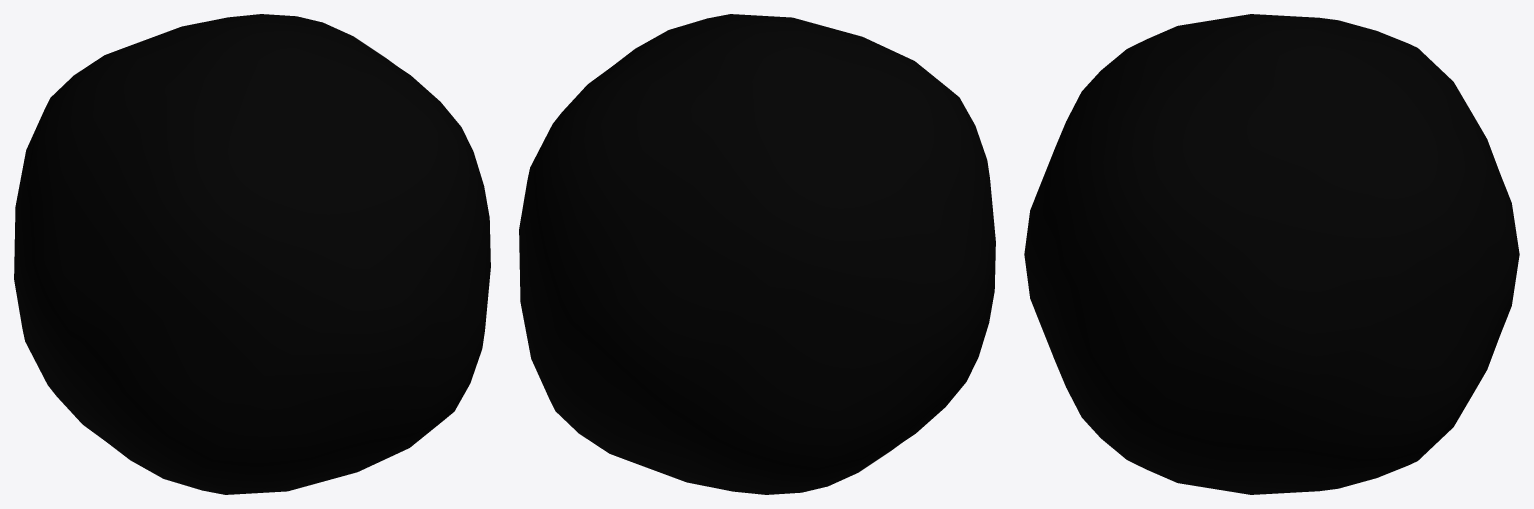
File: cassiopeia_cco.glb
3 views of the same model, side by side, from view 1: azimuth 30°, elevation 25°; view 2: azimuth 150°, elevation 25°; view 3: azimuth 270°, elevation 25° (orthographic).
Visible parts, largest first — view 1: Cco.002_baked; view 2: Cco.002_baked; view 3: Cco.002_baked.
Boxes of the visible parts, box(x1,y1,x2,y2) form: Cco.002_baked: box(14, 14, 490, 494); Cco.002_baked: box(519, 14, 995, 494); Cco.002_baked: box(1024, 14, 1519, 494).
Size of the model in its own units: 1.98 by 1.98 by 1.99.
1 material, 1 textured.
